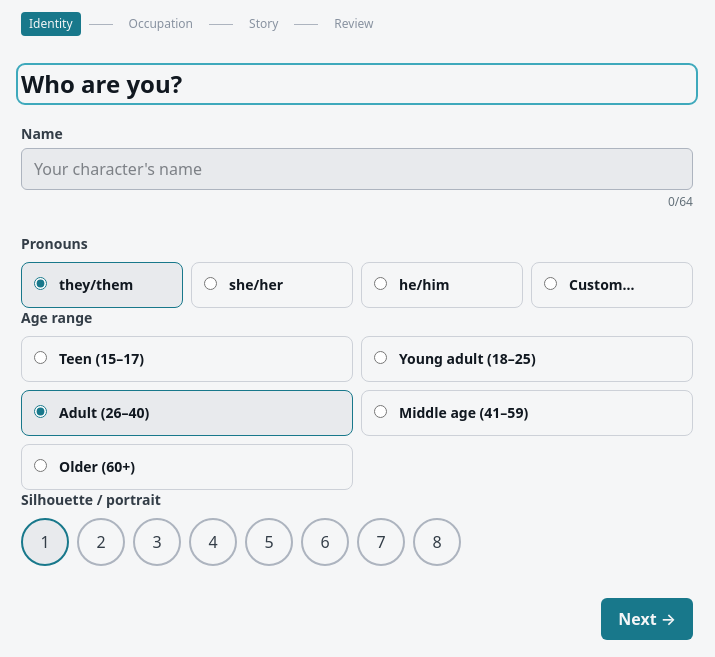
CharacterCreation – identity validation › shows an error if Next is clicked without a name
Click the button "Next →" at (647, 619), box [601,598,693,640]
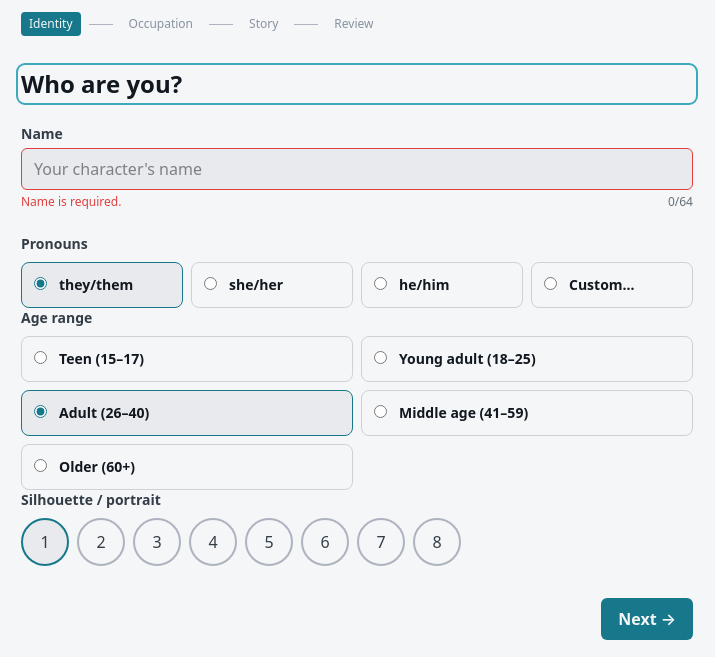
Result: the message "Name is required." is shown at [21,194,121,210]
